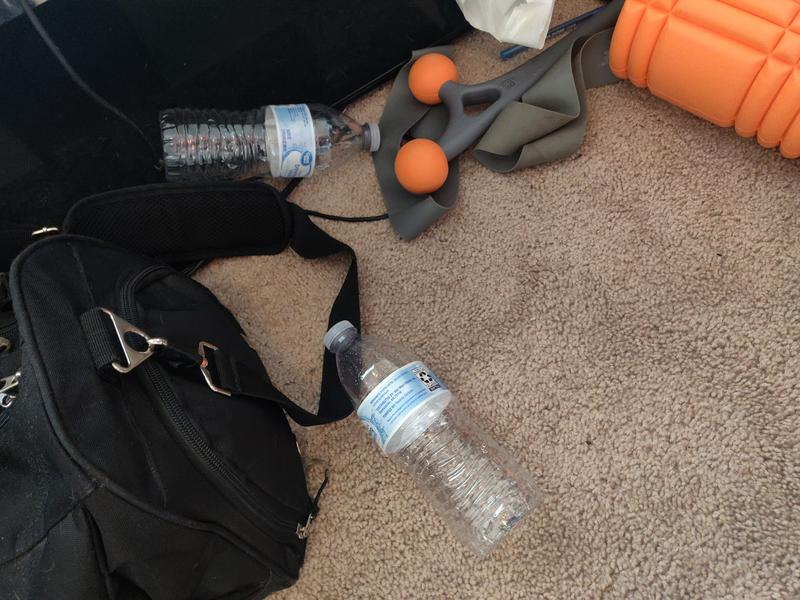bottle: (322, 319, 542, 556), (156, 103, 382, 185)
